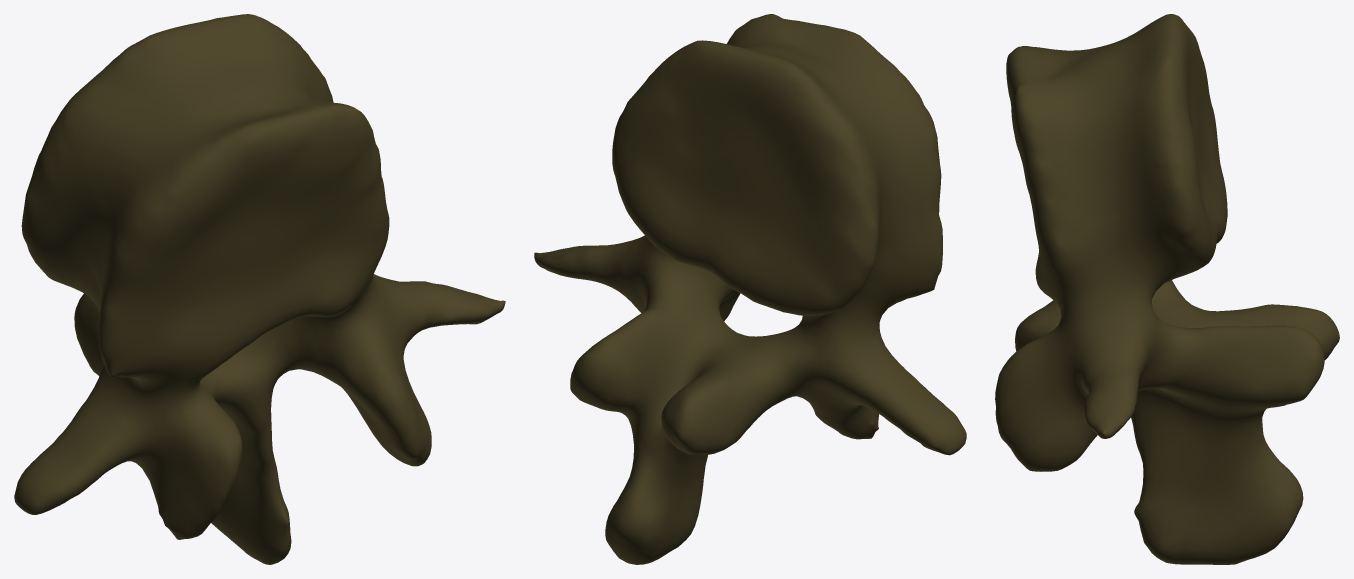
Rendered from segmentations_vertebrae_L2.obj.
The picture shows the model from 3 angles, left to right: view 1: azimuth 30°, elevation 25°; view 2: azimuth 150°, elevation 25°; view 3: azimuth 270°, elevation 25°; orthographic projection. The views are drawn at different scales.
Parts seen in each view (by area): view 1: grp1; view 2: grp1; view 3: grp1.
Boxes of the visible parts, bbox=[...] form: grp1: bbox=[14, 14, 505, 564]; grp1: bbox=[534, 14, 966, 564]; grp1: bbox=[995, 14, 1339, 564].
Bounding box in the file's own units: 50.69 × 56.56 × 35.48.
